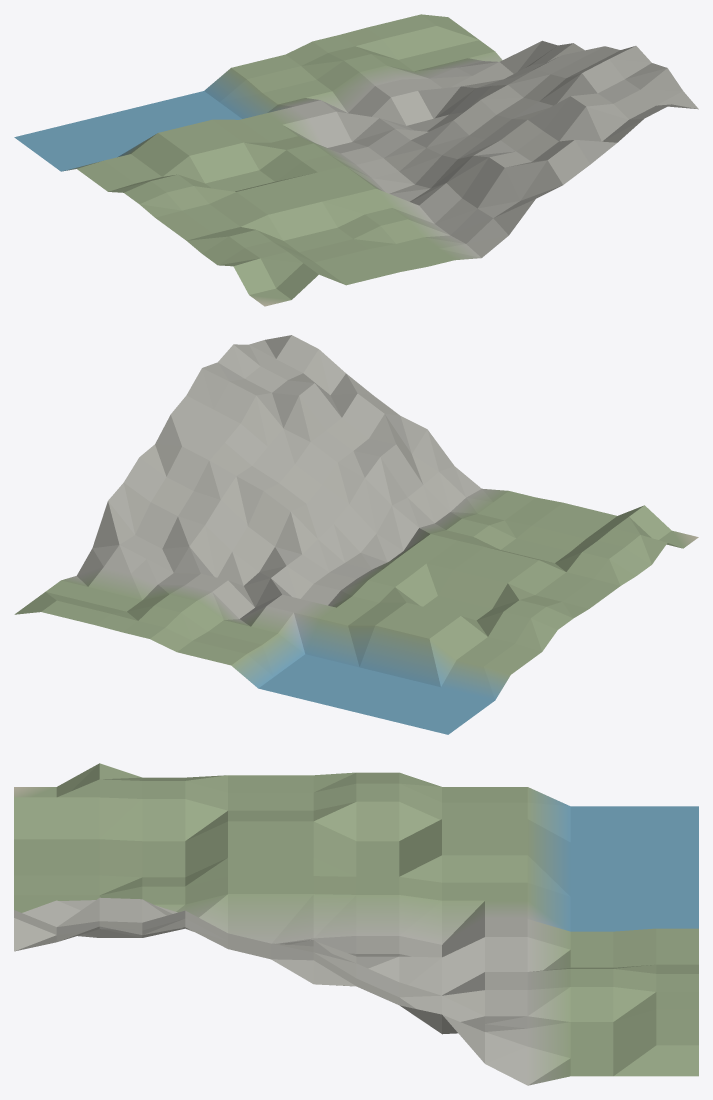
3 renders of one model, top to bottom at view 1: azimuth 30°, elevation 25°; view 2: azimuth 150°, elevation 25°; view 3: azimuth 270°, elevation 25°, orthographic. The views are drawn at different scales.
Size of the model in its own units: 32 by 8.73 by 32.
